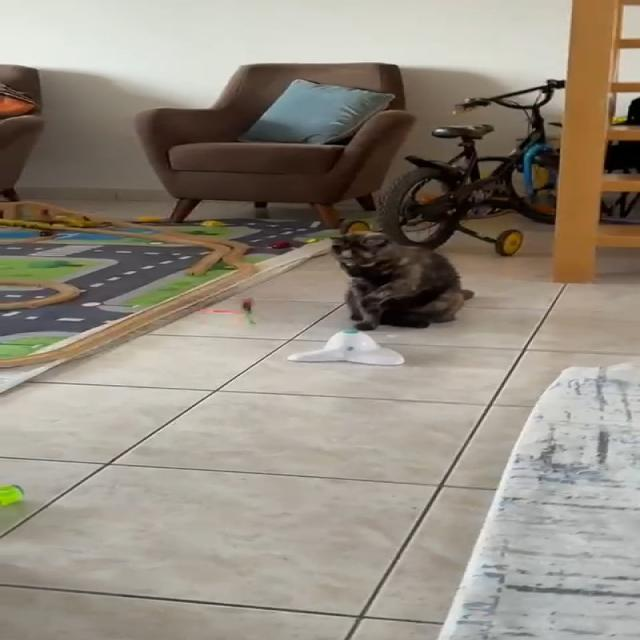authorized: (328, 230, 475, 330)
